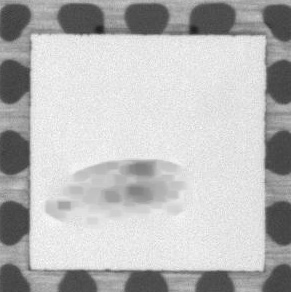DIE_INK: (39, 157, 192, 227)
